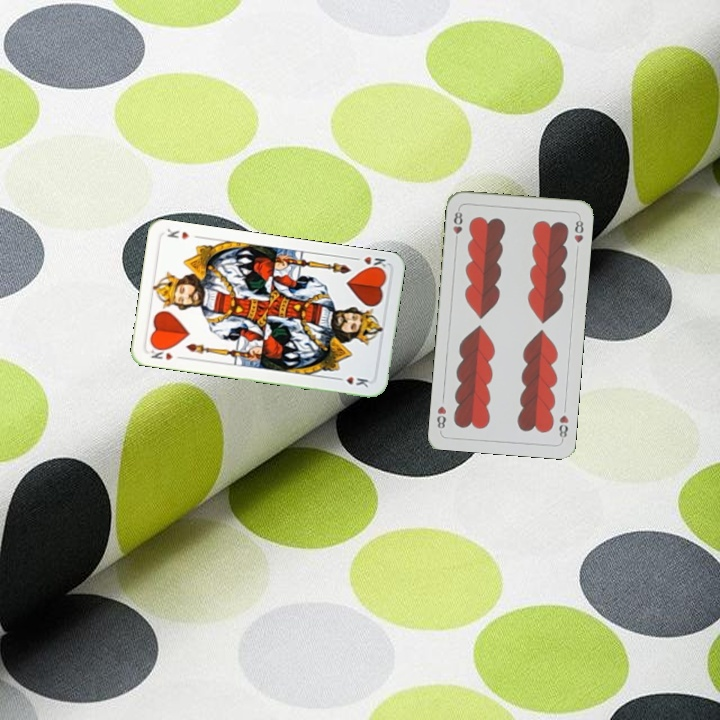H8: (449, 205, 465, 245), (555, 411, 571, 443)
HK: (349, 252, 389, 274), (147, 342, 185, 363)
